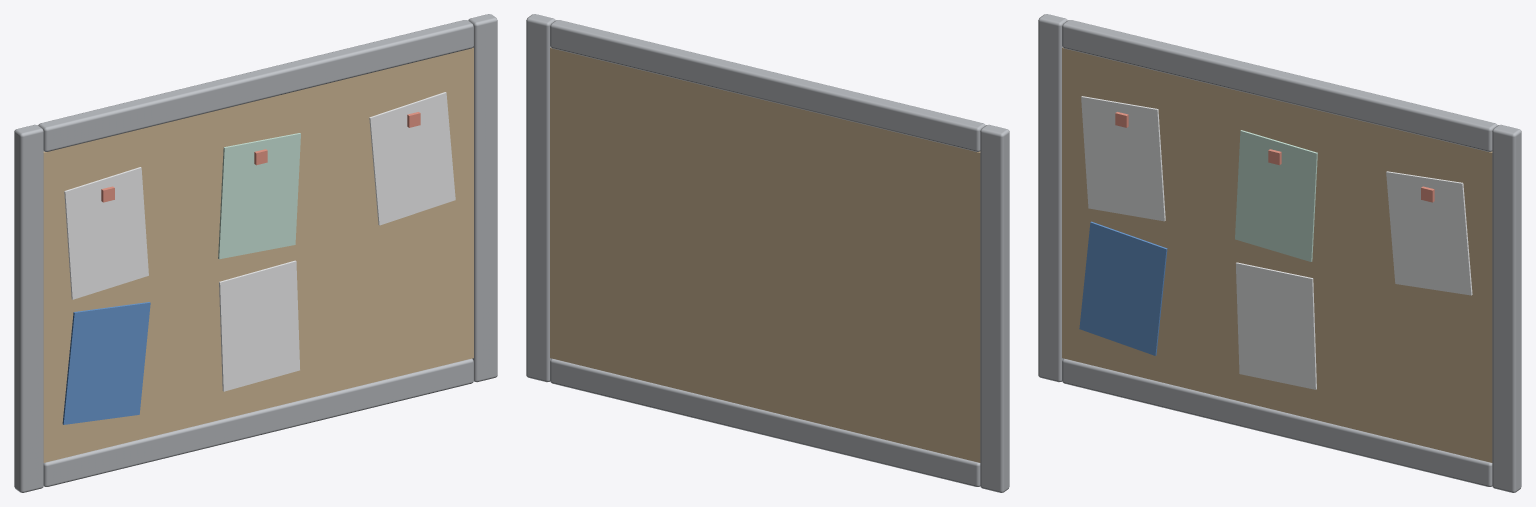
File: Notice Board (Dental Practice and Surgery).glb
3 views of the same model, side by side, from view 1: azimuth 30°, elevation 25°; view 2: azimuth 150°, elevation 25°; view 3: azimuth 330°, elevation 25° (orthographic).
Visible parts, largest first — view 1: notice-board; view 2: notice-board; view 3: notice-board.
Part boxes in pixels (x1,y1,x2,y2): notice-board: (14, 14, 497, 492); notice-board: (526, 14, 1009, 492); notice-board: (1038, 14, 1521, 492).
Bounding box in the file's own units: 1 × 0.7201 × 0.037.
